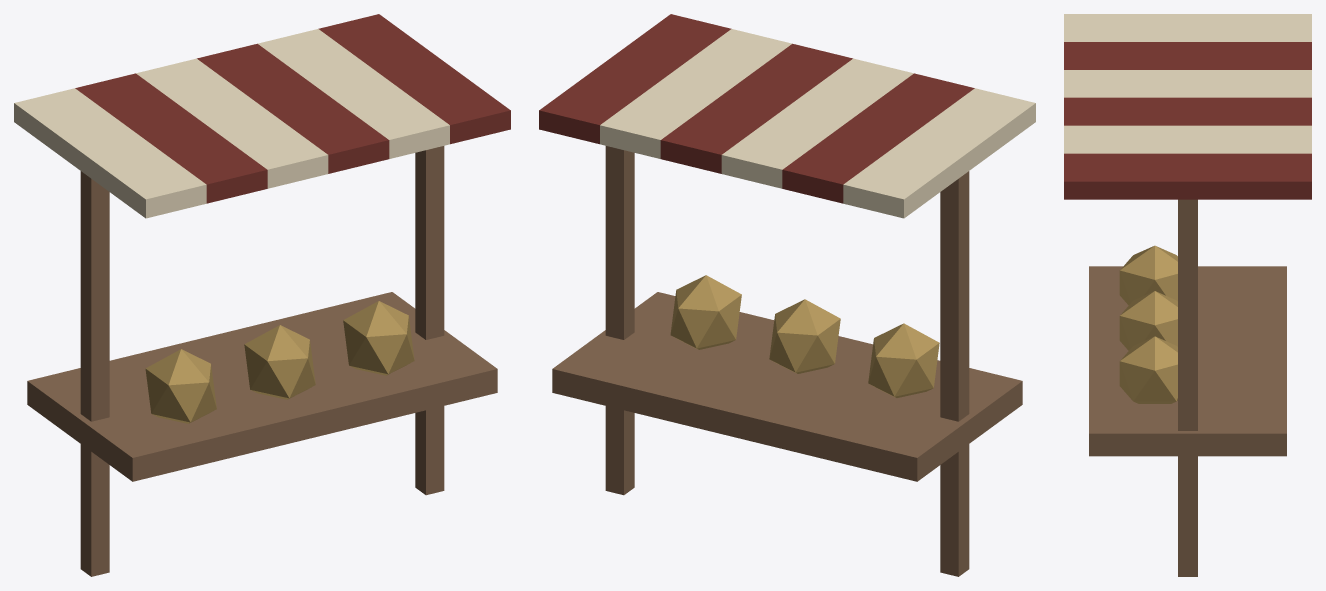
File: stall.glb
The picture shows the model from 3 angles, left to right: view 1: azimuth 30°, elevation 25°; view 2: azimuth 150°, elevation 25°; view 3: azimuth 270°, elevation 25°; orthographic projection. The views are drawn at different scales.
Visible parts, largest first — view 1: stall; view 2: stall; view 3: stall.
Boxes of the visible parts, x1=… form: stall: x1=14, y1=14, x2=510, y2=576; stall: x1=539, y1=14, x2=1035, y2=576; stall: x1=1064, y1=14, x2=1311, y2=576.
Bounding box in the file's own units: 2.4 × 2.66 × 1.5.
